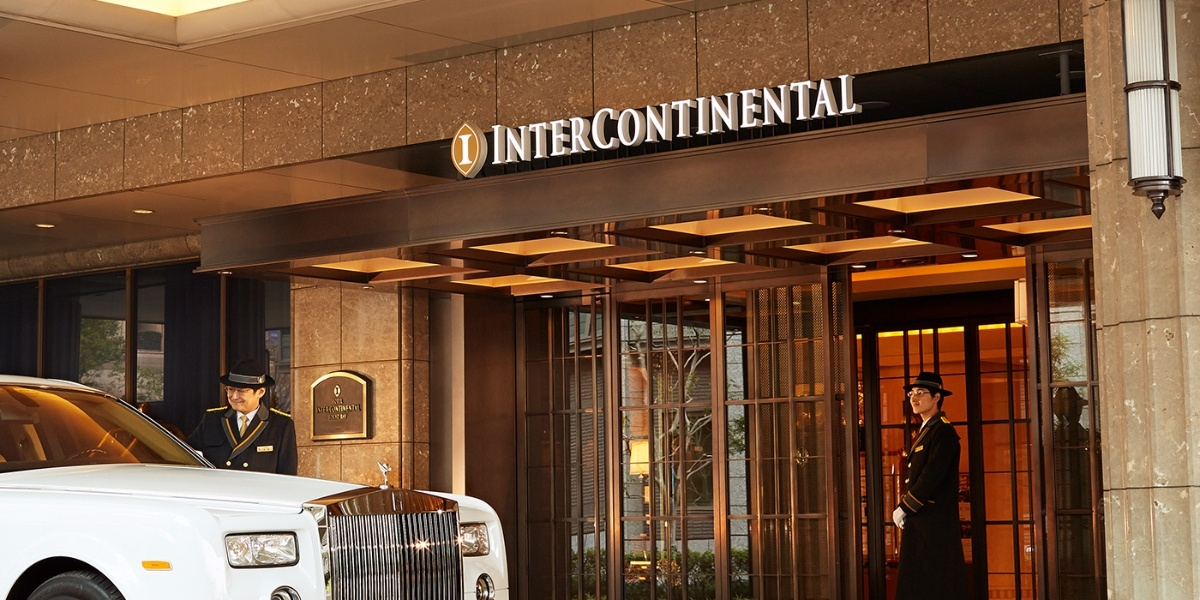text: (497, 69, 512, 167), (513, 69, 528, 167), (529, 69, 544, 167), (545, 69, 560, 167), (561, 69, 576, 167), (577, 69, 592, 167), (593, 69, 608, 167), (609, 69, 624, 167), (625, 69, 640, 167), (641, 69, 656, 167), (657, 69, 672, 167), (673, 69, 688, 167), (689, 69, 704, 167), (705, 69, 720, 167), (721, 69, 736, 167), (737, 69, 752, 167), (753, 69, 768, 167), (769, 69, 784, 167), (785, 69, 800, 167), (801, 69, 816, 167), (817, 69, 832, 167), (833, 69, 848, 167), (849, 69, 863, 167), (490, 69, 496, 167), (321, 402, 336, 425), (337, 402, 352, 425), (465, 133, 474, 167), (457, 133, 464, 167), (353, 402, 362, 425), (315, 402, 320, 425)
